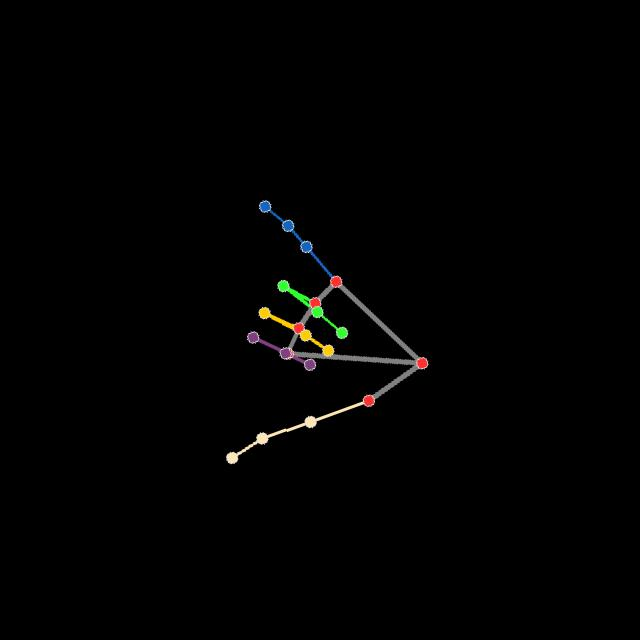skr: (213, 196, 433, 468)
